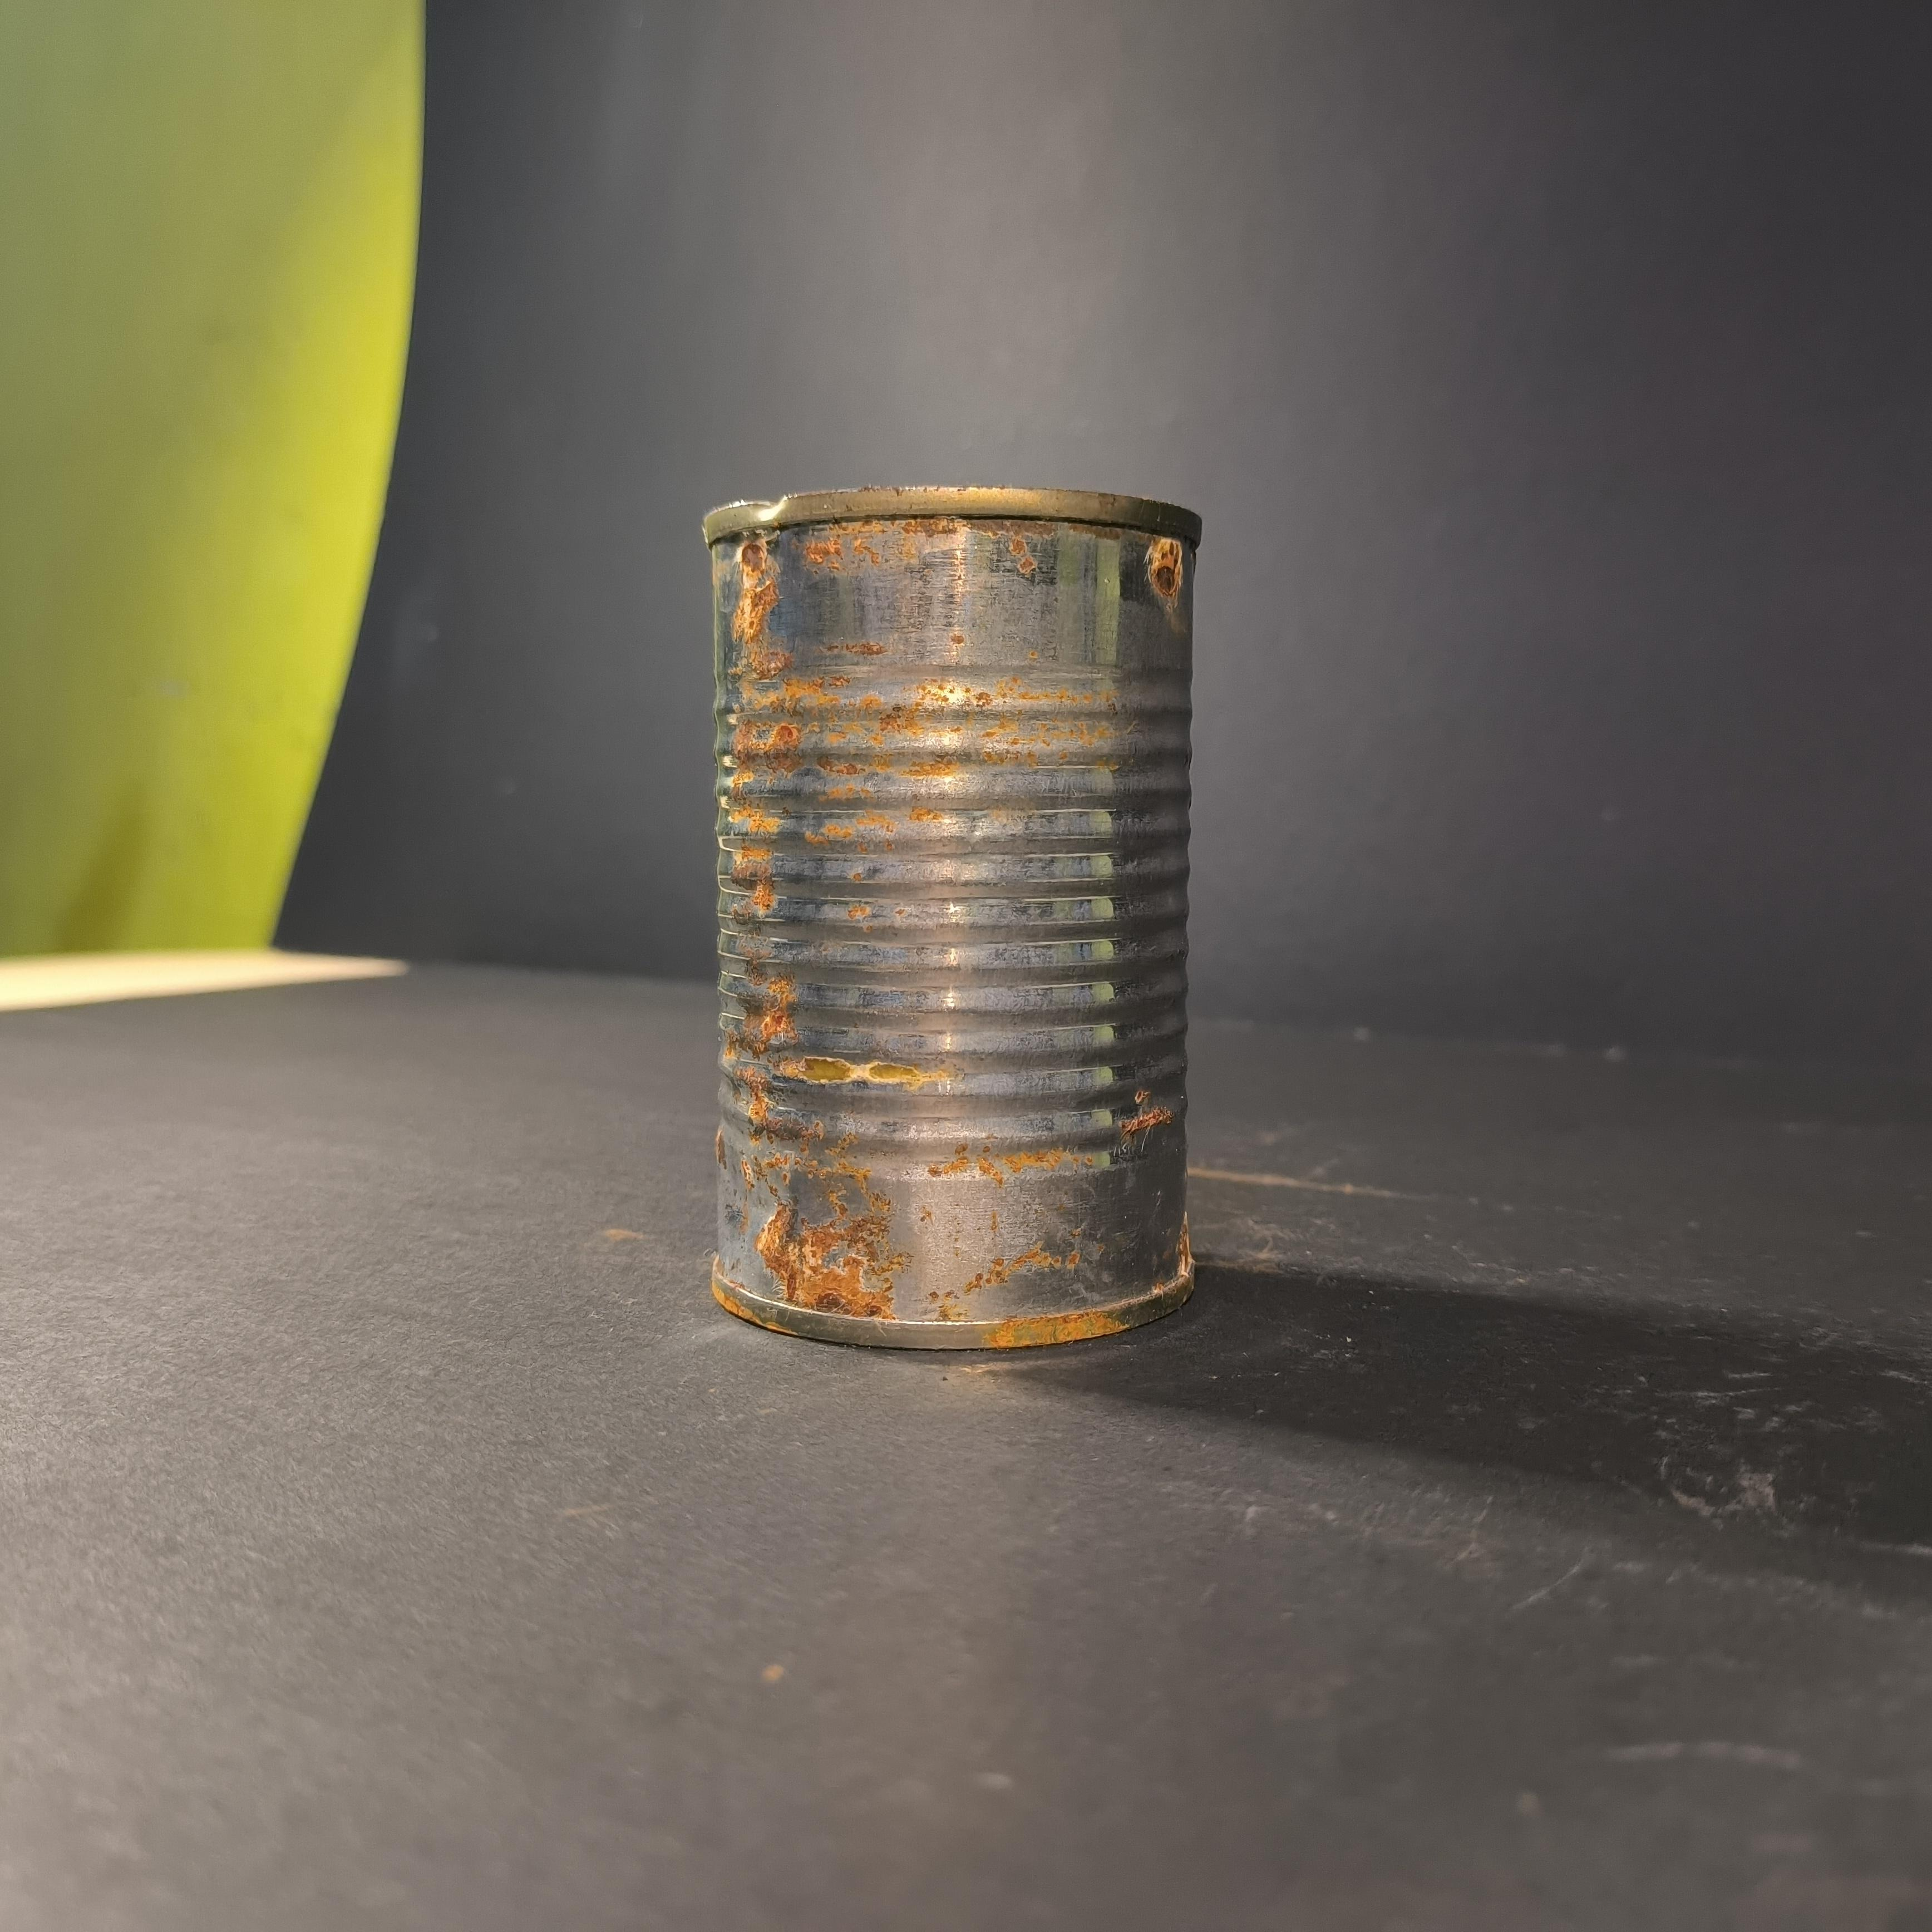Rusted: (694, 451, 1205, 1375)
